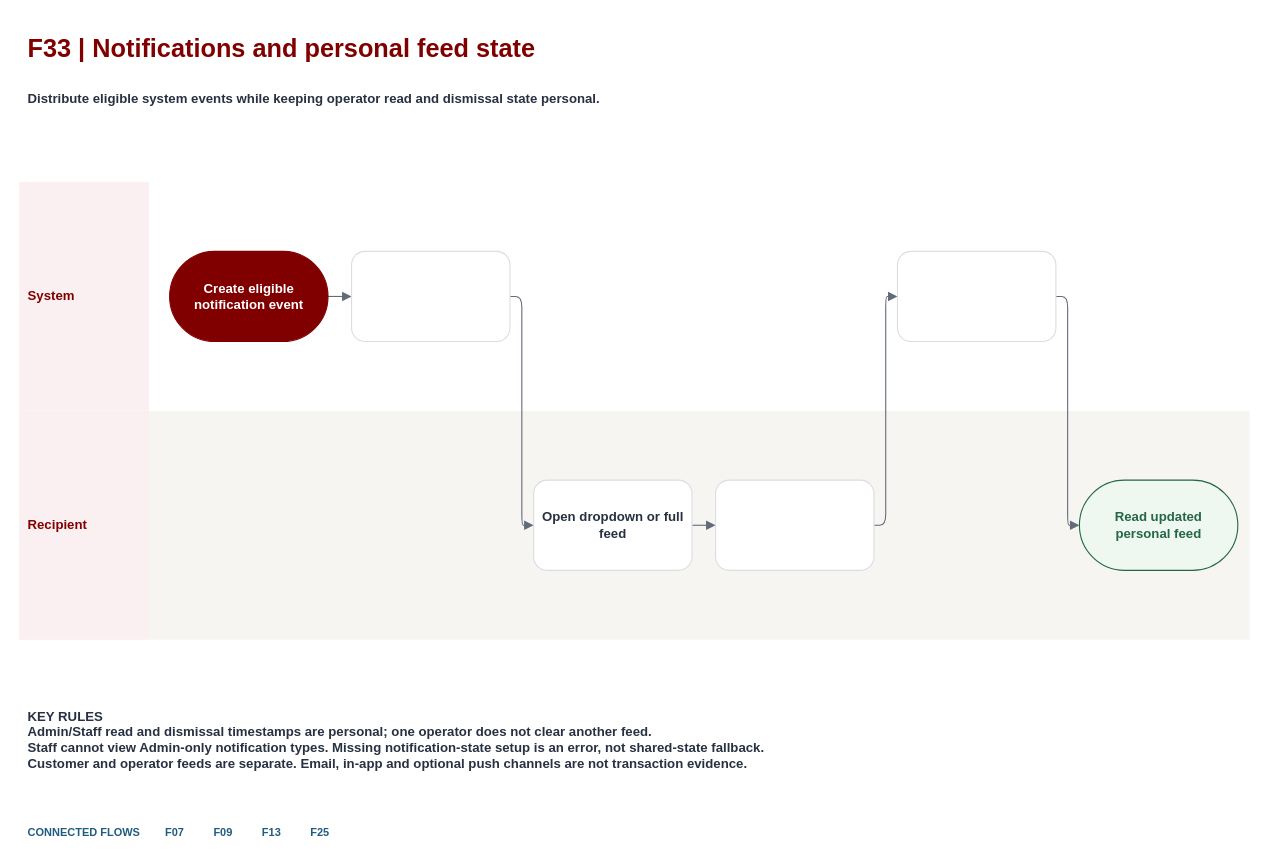
Some shapes in this 1268 by 860 pixel diagram are drawn without their labels. The centre of each missing label's shape, as x and y in pixels:
"Apply recipient and role filters" belongs at (x=430, y=296).
"Read, mark or dismiss entries" belongs at (x=794, y=524).
"Save this recipient feed state" belongs at (x=976, y=296).
